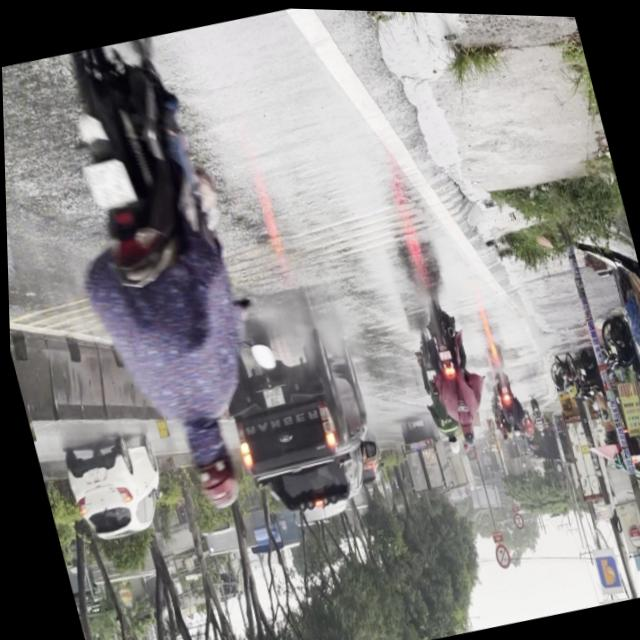helmet: (173, 415, 243, 516)
licenseplate: (19, 24, 298, 534)
nohelmet: (81, 157, 135, 211)
